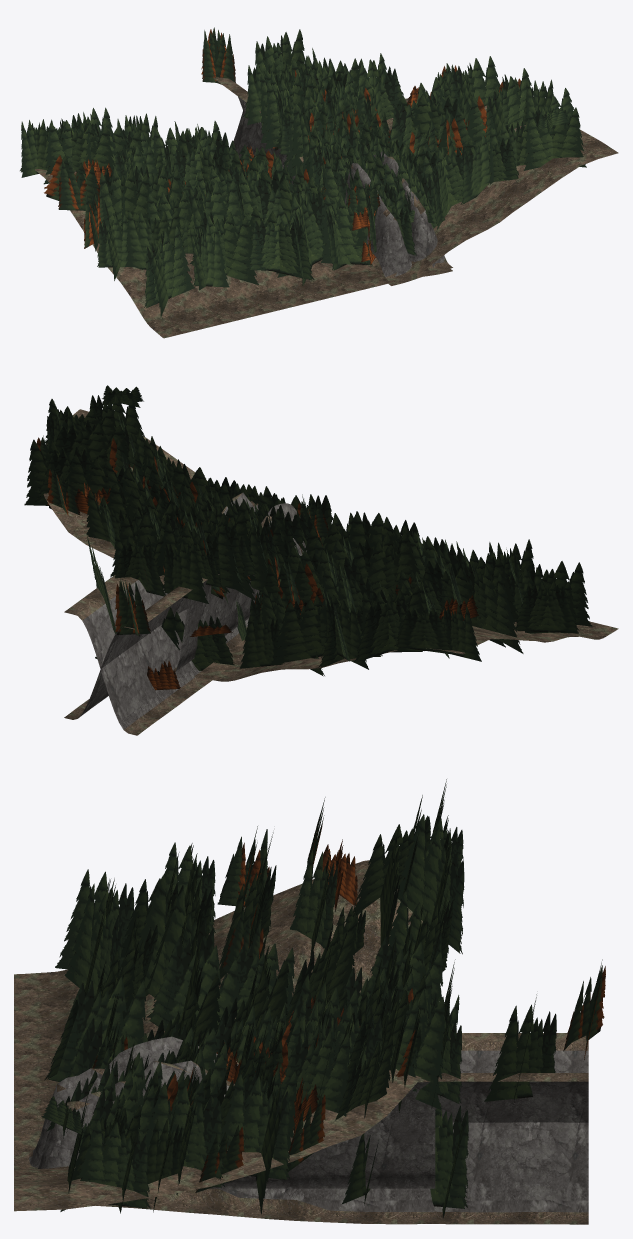
File: bk_town_autumn.glb
The picture shows the model from 3 angles, top to bottom: view 1: azimuth 30°, elevation 25°; view 2: azimuth 150°, elevation 25°; view 3: azimuth 270°, elevation 25°; orthographic projection. The views are drawn at different scales.
Parts seen in each view (by area): view 1: trees_corner_inner, trees_corner_outer, corner_inner, corner_outer, trees_straight12_a, trees_straight12_c, endcap_land_to_sea, trees_straight6, trees_straight12_b, endcap_sea_to_land, trees_endcap_sea_to_land, trees_endcap_land_to_sea (+1 smaller); view 2: trees_corner_inner, trees_corner_outer, endcap_sea_to_land, trees_endcap_sea_to_land, trees_endcap_land_to_sea, corner_inner, trees_straight12_a, endcap_land_to_sea, pass12, trees_straight3, trees_straight12_c, trees_straight12_b (+2 smaller); view 3: trees_corner_inner, trees_corner_outer, endcap_land_to_sea, corner_inner, corner_outer, endcap_sea_to_land, pass12, trees_endcap_sea_to_land, trees_endcap_land_to_sea, trees_straight12_a, trees_straight12_c, trees_straight6 (+2 smaller).
Boxes of the visible parts, bbox=[...] form: trees_corner_inner: bbox=[20, 107, 372, 317]; trees_corner_outer: bbox=[265, 53, 586, 229]; corner_inner: bbox=[35, 169, 390, 338]; corner_outer: bbox=[381, 98, 618, 282]; trees_straight12_a: bbox=[291, 48, 434, 256]; trees_straight12_c: bbox=[291, 62, 435, 252]; endcap_land_to_sea: bbox=[213, 77, 452, 279]; trees_straight6: bbox=[260, 70, 377, 238]; trees_straight12_b: bbox=[273, 58, 434, 230]; endcap_sea_to_land: bbox=[233, 110, 448, 285]; trees_endcap_sea_to_land: bbox=[247, 29, 390, 169]; trees_endcap_land_to_sea: bbox=[201, 27, 287, 129]; trees_corner_inner: bbox=[190, 511, 592, 676]; trees_corner_outer: bbox=[24, 385, 328, 591]; endcap_sea_to_land: bbox=[64, 492, 258, 735]; trees_endcap_sea_to_land: bbox=[87, 487, 298, 690]; trees_endcap_land_to_sea: bbox=[95, 541, 222, 658]; corner_inner: bbox=[194, 621, 618, 681]; trees_straight12_a: bbox=[110, 483, 305, 579]; endcap_land_to_sea: bbox=[64, 503, 306, 719]; pass12: bbox=[172, 574, 260, 671]; trees_straight3: bbox=[156, 522, 302, 593]; trees_straight12_c: bbox=[137, 494, 333, 593]; trees_straight12_b: bbox=[170, 478, 322, 603]; trees_corner_inner: bbox=[44, 779, 464, 1081]; trees_corner_outer: bbox=[41, 957, 417, 1214]; endcap_land_to_sea: bbox=[28, 1033, 588, 1224]; corner_inner: bbox=[14, 858, 429, 1152]; corner_outer: bbox=[14, 1070, 421, 1211]; endcap_sea_to_land: bbox=[38, 1060, 588, 1168]; pass12: bbox=[209, 1082, 435, 1188]; trees_endcap_sea_to_land: bbox=[241, 994, 556, 1108]; trees_endcap_land_to_sea: bbox=[341, 959, 605, 1217]; trees_straight12_a: bbox=[67, 976, 444, 1112]; trees_straight12_c: bbox=[70, 984, 421, 1110]; trees_straight6: bbox=[164, 938, 452, 1063].
Bounding box in the file's own units: 91.73 × 29.14 × 63.16.
Materials: 3 (3 with a texture image).
